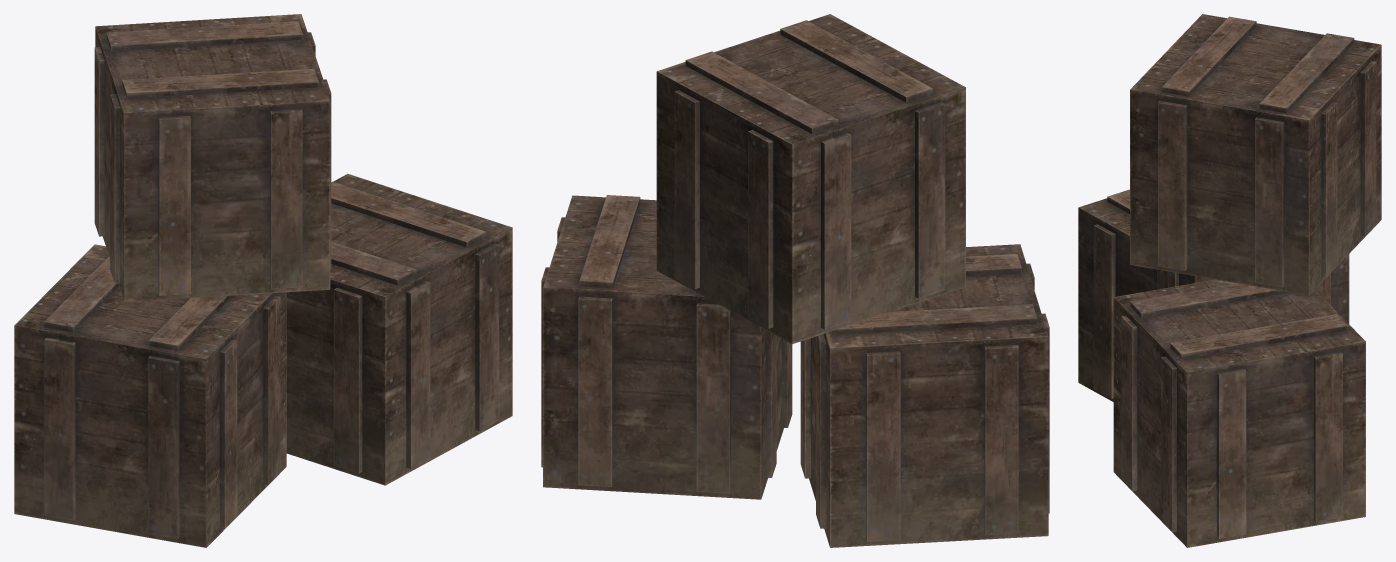
The model's file is SHO_Scavengers_CrateSet_1-transformed.glb.
The picture shows the model from 3 angles, left to right: view 1: azimuth 30°, elevation 25°; view 2: azimuth 150°, elevation 25°; view 3: azimuth 270°, elevation 25°; orthographic projection. The views are drawn at different scales.
Parts seen in each view (by area): view 1: default; view 2: default; view 3: default.
Part boxes in pixels (left/top/right/bottom): default: left=14, top=14, right=512, bottom=547; default: left=541, top=14, right=1049, bottom=547; default: left=1078, top=14, right=1381, bottom=547.
Bounding box in the file's own units: 1.63 × 1.3 × 0.9716.
Materials: 1 (1 with a texture image).
